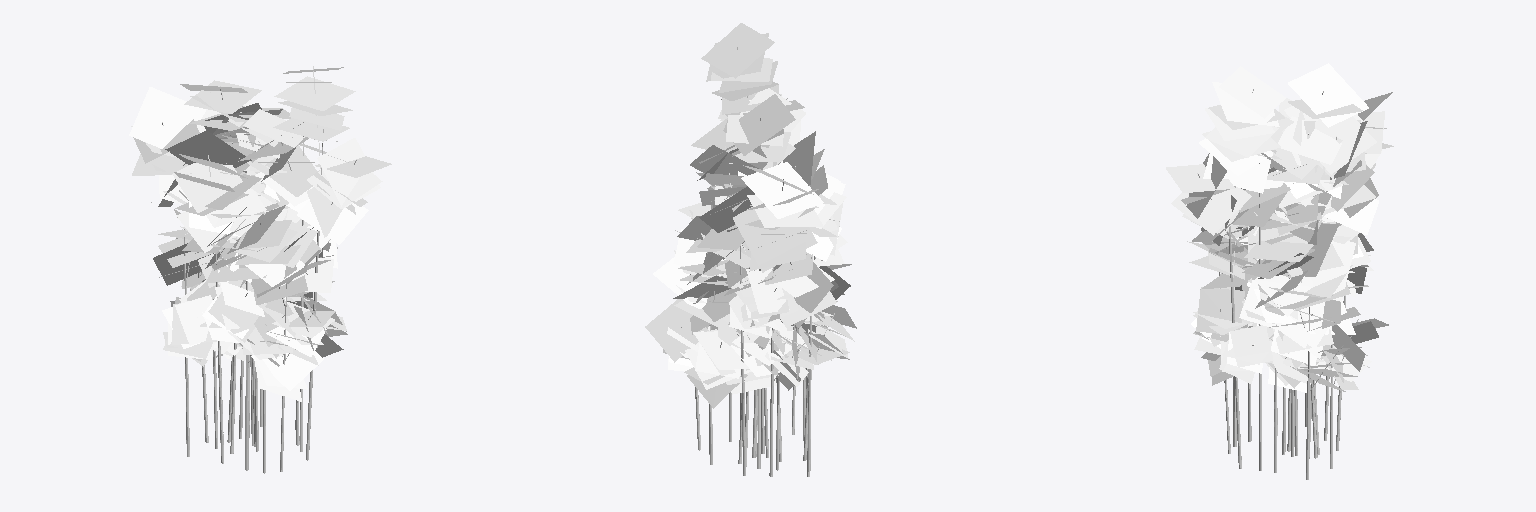
The model's file is Bamboo_Model_0.obj.
The picture shows the model from 3 angles: view 1: azimuth 30°, elevation 25°; view 2: azimuth 150°, elevation 25°; view 3: azimuth 270°, elevation 25°; orthographic projection.
Visible parts, largest first — view 1: Foliage__leafcard, Bark; view 2: Foliage__leafcard, Bark; view 3: Foliage__leafcard, Bark.
Boxes of the visible parts, box(x1,y1,x2,y2) form: Foliage__leafcard: box(129, 67, 391, 401); Bark: box(162, 66, 356, 473); Foliage__leafcard: box(645, 23, 856, 408); Bark: box(681, 47, 834, 476); Foliage__leafcard: box(1166, 63, 1393, 392); Bark: box(1197, 89, 1358, 479).
Size of the model in its own units: 3.35 by 7 by 3.7.